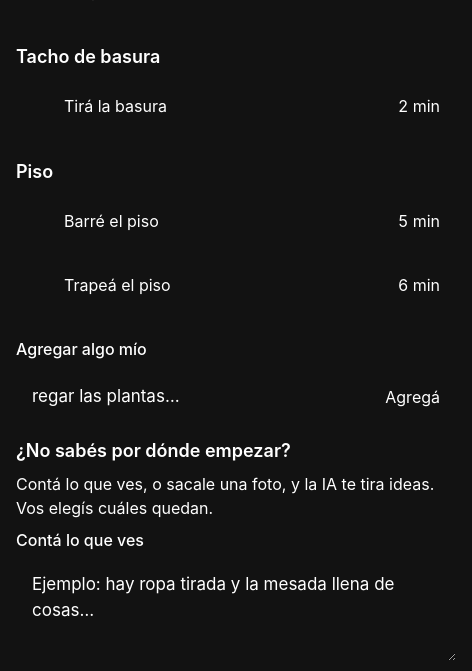
Enter en «Agregar algo mío» agrega la tarea
(page scrolled)
Step 1. Type "Regar las plantas" into the field labelled "Agregar algo mío" → [189, 397], box [16, 369, 361, 425]
Then press Enter
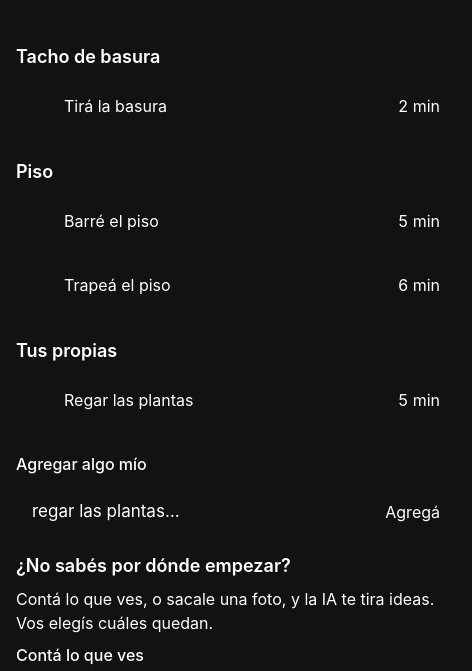
Expected: the field labelled "Agregar algo mío" is empty, [16, 484, 361, 540]
Expected: the checkbox labelled "Regar las plantas 5 min" is checked, [64, 390, 440, 410]
